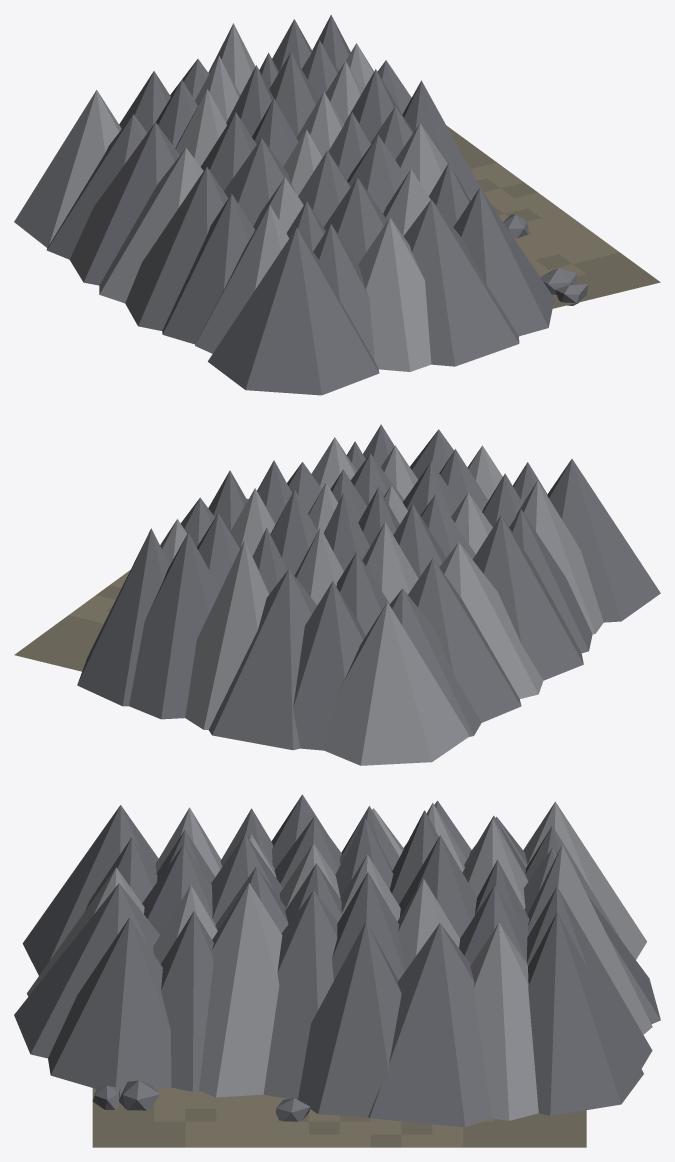
The model's file is chunk_11_19.glb.
3 renders of one model, top to bottom at view 1: azimuth 30°, elevation 25°; view 2: azimuth 150°, elevation 25°; view 3: azimuth 270°, elevation 25°, orthographic. The views are drawn at different scales.
Visible parts, largest first — view 1: chunk_11_19; view 2: chunk_11_19; view 3: chunk_11_19.
Part boxes in pixels (x1=…): chunk_11_19: x1=14, y1=15, x2=660, y2=395; chunk_11_19: x1=14, y1=424, x2=660, y2=765; chunk_11_19: x1=14, y1=794, x2=660, y2=1147.
Bounding box in the file's own units: 18.49 × 7.48 × 20.96.
